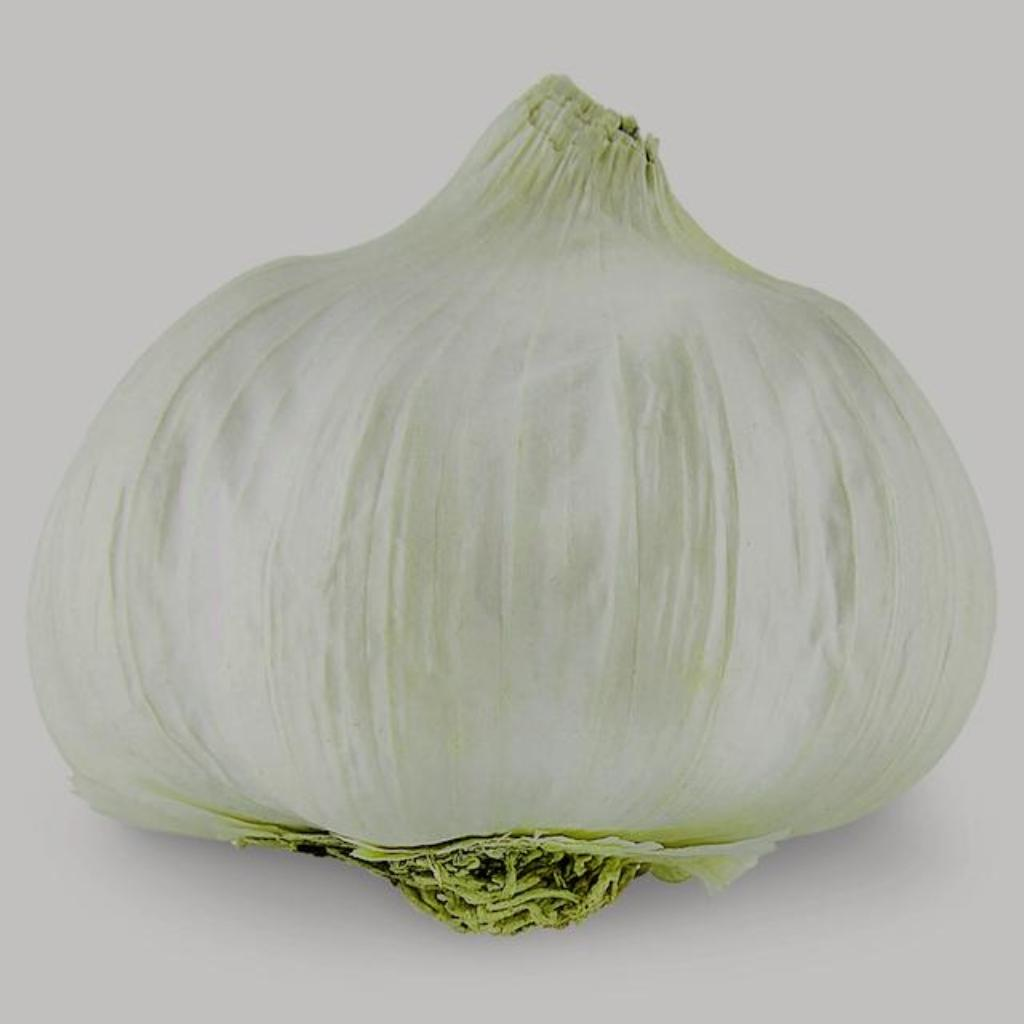garlic: (28, 78, 994, 933)
